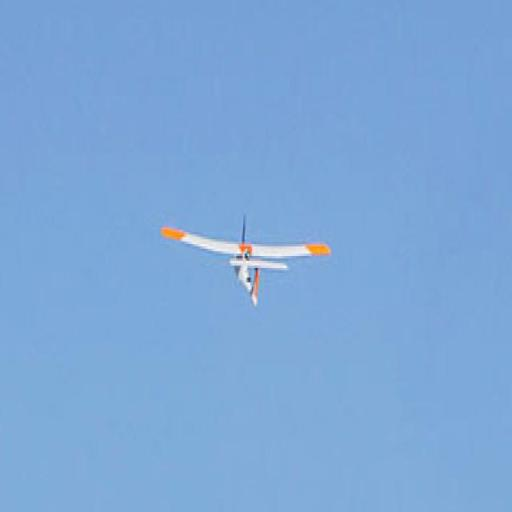uav: (158, 210, 337, 304)
